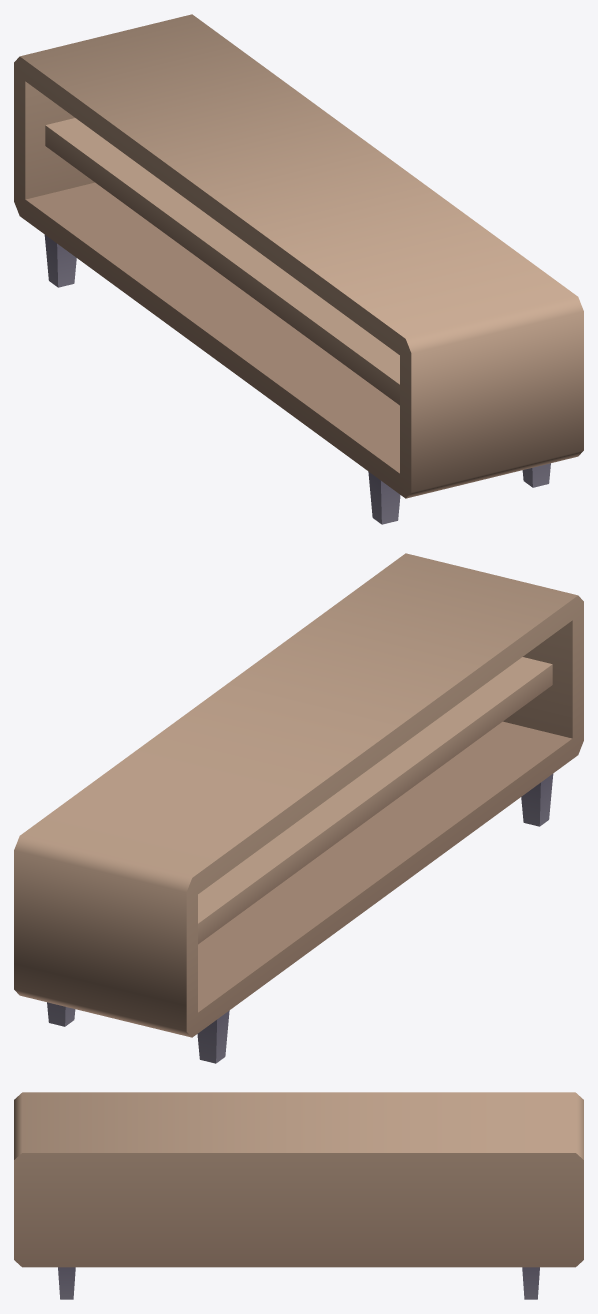
Rendered from tv-cabinet-open.glb.
3 views of the same model, one above another, from view 1: azimuth 30°, elevation 25°; view 2: azimuth 150°, elevation 25°; view 3: azimuth 270°, elevation 25° (orthographic). The views are drawn at different scales.
Parts seen in each view (by area): view 1: tv-cabinet-open; view 2: tv-cabinet-open; view 3: tv-cabinet-open.
Boxes of the visible parts, box(x1,y1,x2,y2) form: tv-cabinet-open: box(14, 14, 583, 524); tv-cabinet-open: box(14, 553, 583, 1063); tv-cabinet-open: box(14, 1092, 583, 1299).
Size of the model in its own units: 0.4 by 0.456 by 1.6.
